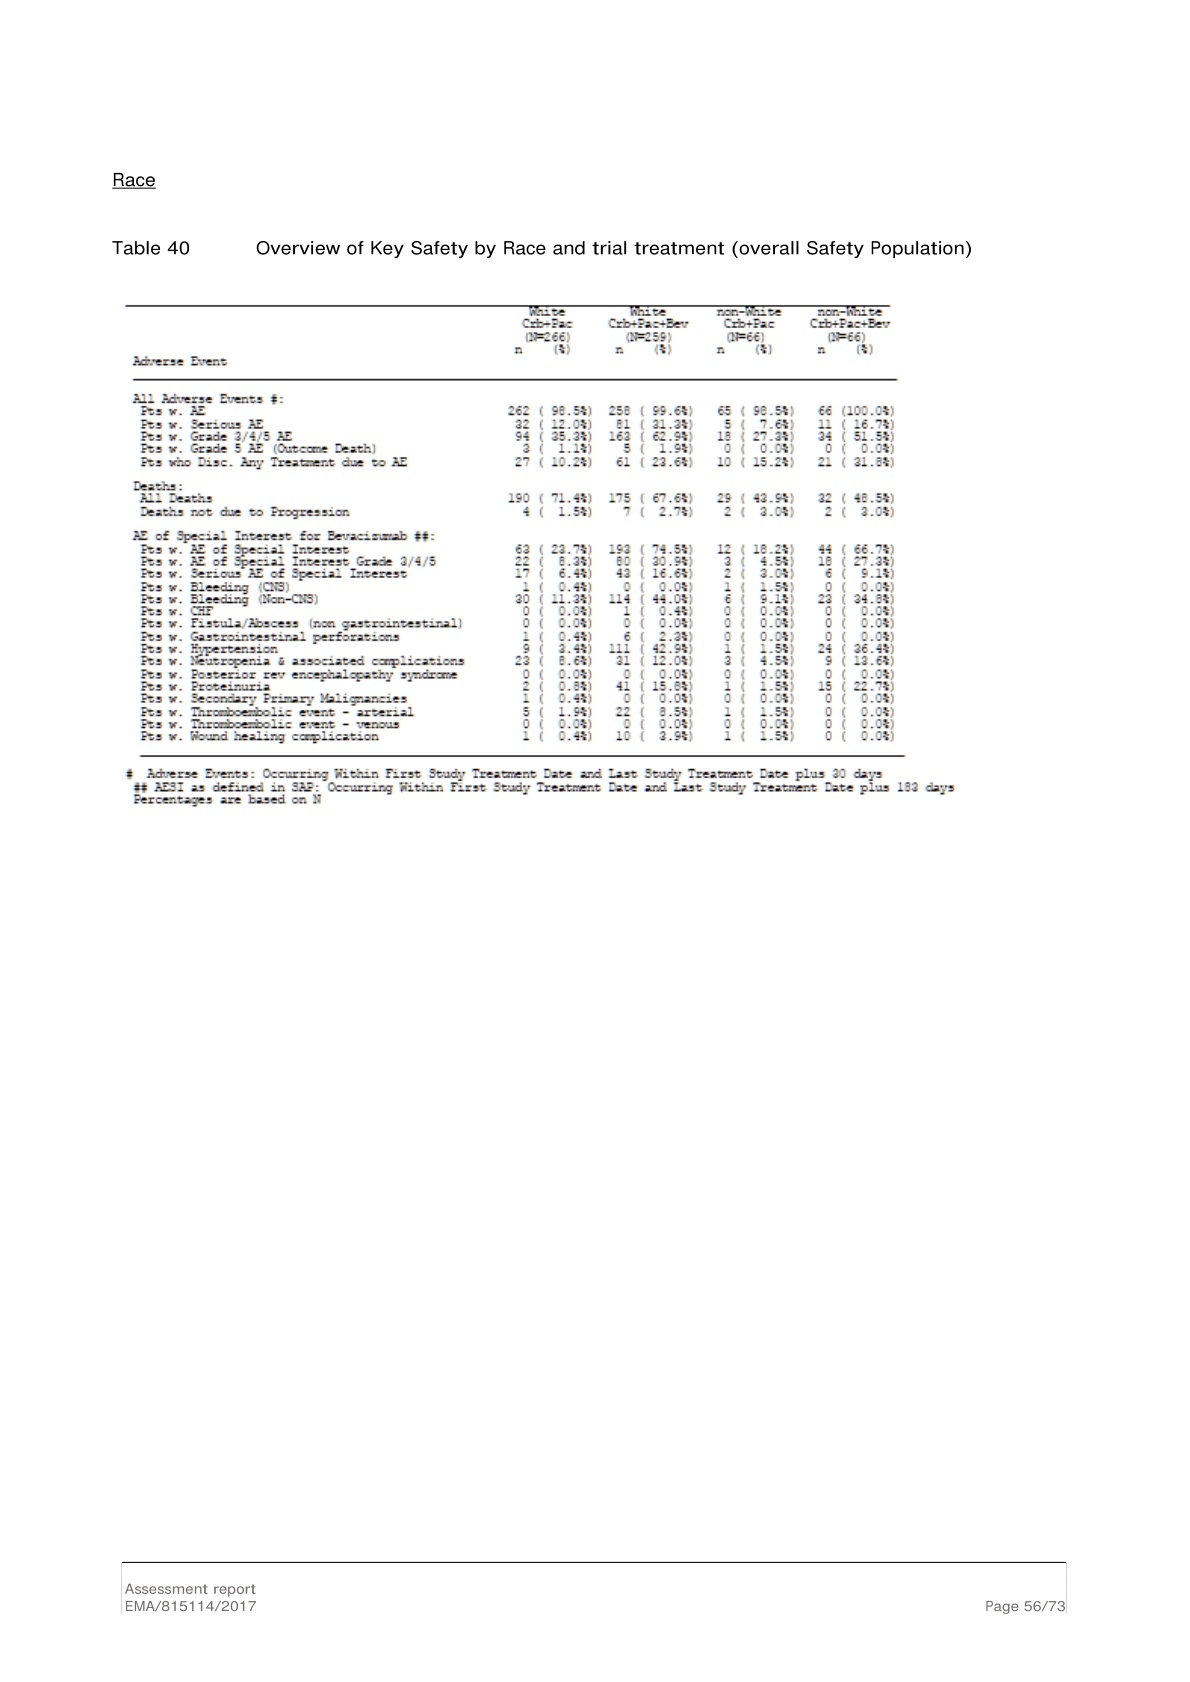partial_lined_merged_cells: (125, 301, 905, 759)
